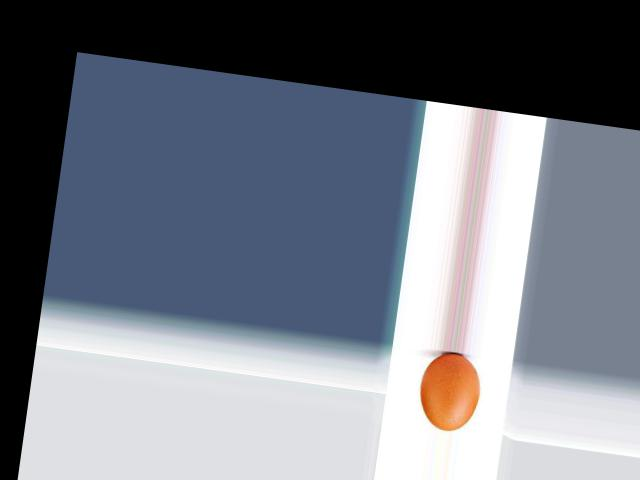egg: (414, 349, 484, 433)
